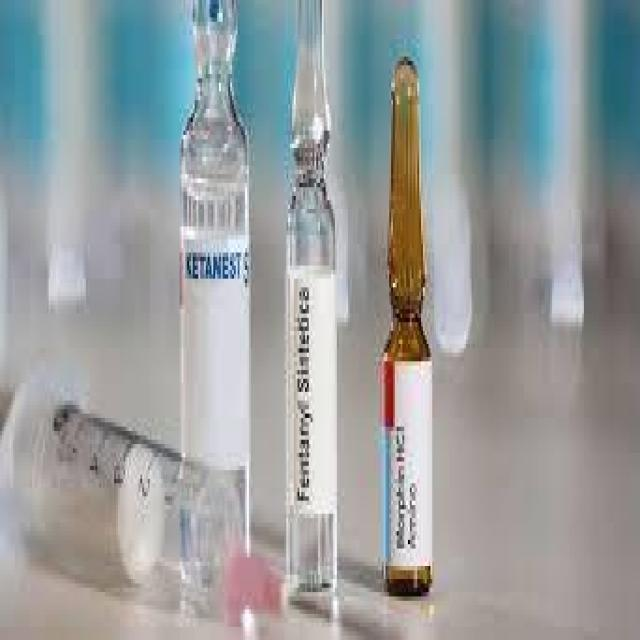B3: (362, 30, 461, 614), (277, 4, 361, 614)
